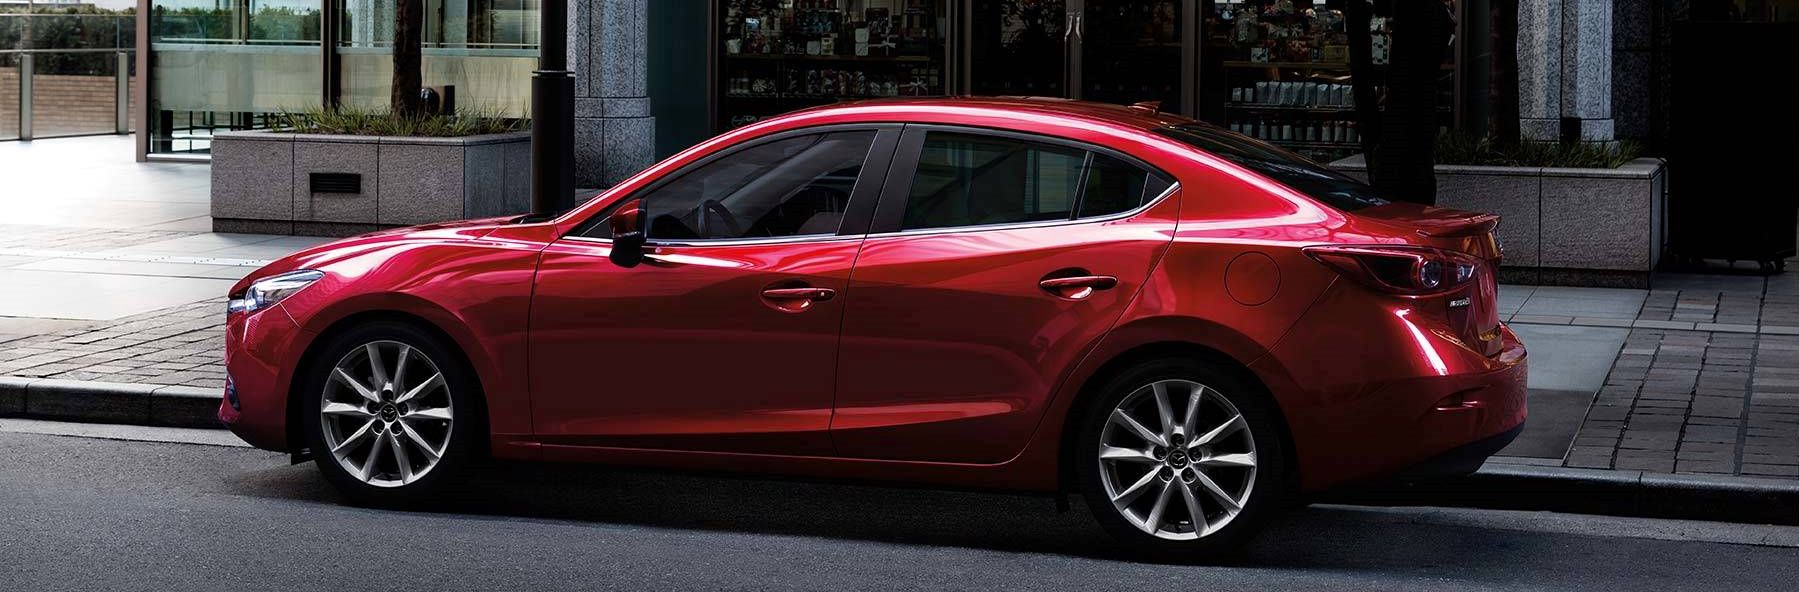Mazda3 Hatchback: (215, 94, 1532, 566)
